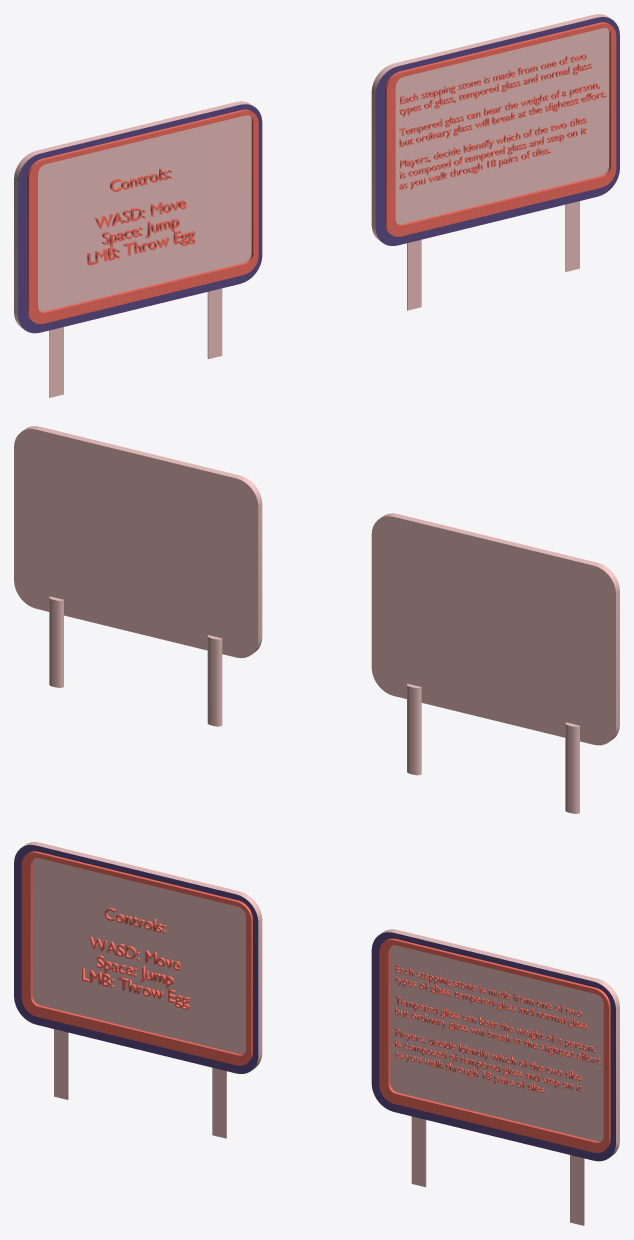
File: Billboards.fbx
3 renders of one model, top to bottom at view 1: azimuth 30°, elevation 25°; view 2: azimuth 150°, elevation 25°; view 3: azimuth 330°, elevation 25°, orthographic.
Parts seen in each view (by area): view 1: Billboard, Billboard.001, Tutorial.001, Tutorial; view 2: Billboard.001, Billboard; view 3: Billboard, Billboard.001, Tutorial.001, Tutorial.
Boxes of the visible parts, <box> form: Billboard: <box>14,101,262,397</box>; Billboard.001: <box>371,14,619,310</box>; Tutorial.001: <box>399,54,606,189</box>; Tutorial: <box>87,168,195,265</box>; Billboard.001: <box>14,426,262,726</box>; Billboard: <box>371,513,619,813</box>; Billboard: <box>14,842,262,1138</box>; Billboard.001: <box>371,929,619,1225</box>; Tutorial.001: <box>394,964,601,1093</box>; Tutorial: <box>82,907,189,1009</box>.
Bounding box in the file's own units: 625 × 248 × 14.85.
